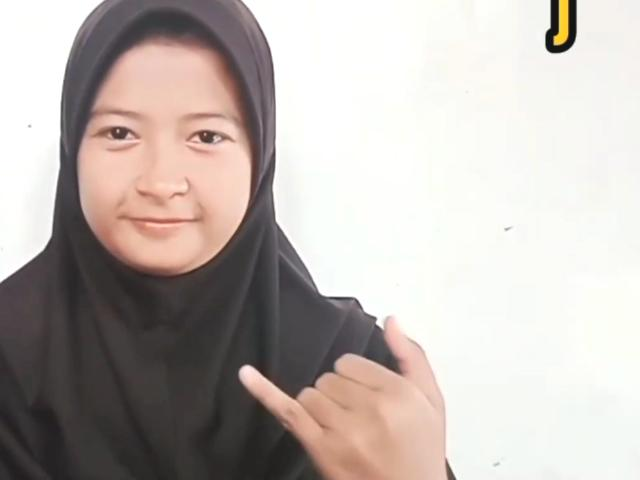J: (233, 312, 467, 480)
